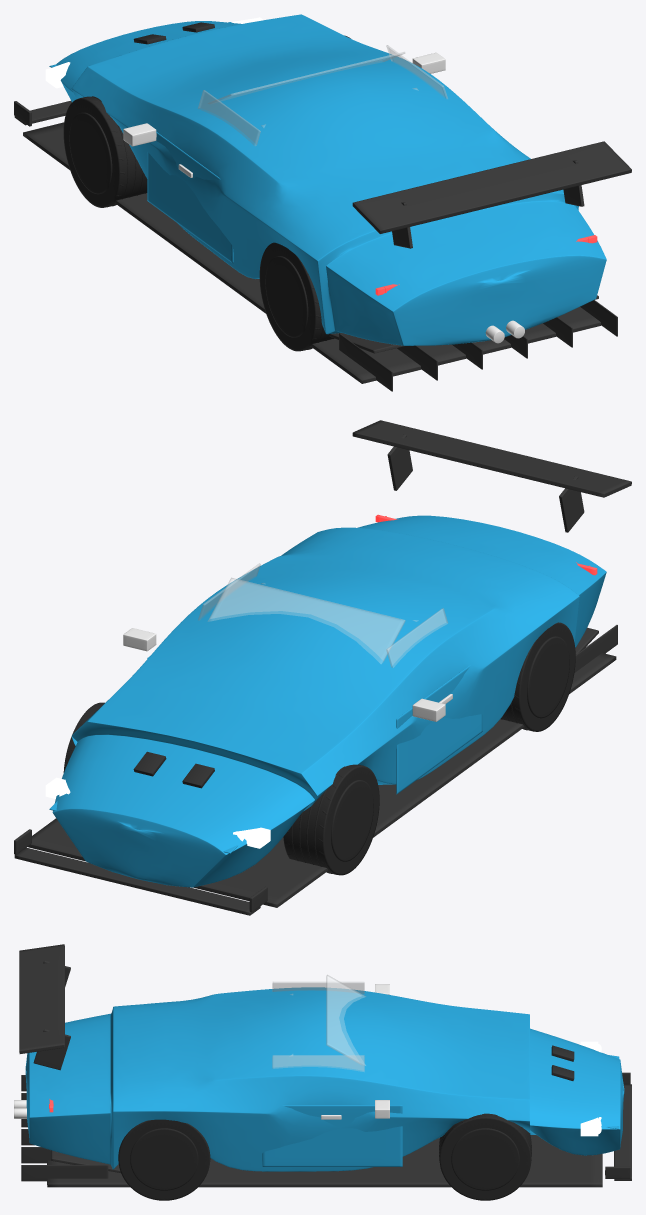
File: vehicle.opt.glb
The picture shows the model from 3 angles, top to bottom: view 1: azimuth 30°, elevation 25°; view 2: azimuth 150°, elevation 25°; view 3: azimuth 270°, elevation 25°; orthographic projection. The views are drawn at different scales.
Visible parts, largest first — view 1: BODY_MainShell, UNDERBODY_FlatFloor, AERO_992R_SwanNeckWing, WHEEL_FL_Tire, WHEEL_RL_Tire, BODY_Door_FL, GLASS_Greenhouse, JEWELRY_Hardware, AERO_FrontSplitter, LIGHTING_Headlamps; view 2: BODY_MainShell, UNDERBODY_FlatFloor, AERO_992R_SwanNeckWing, GLASS_Greenhouse, WHEEL_FL_Tire, WHEEL_RL_Tire, BODY_Door_FL, AERO_FrontSplitter, JEWELRY_Hardware, AERO_992R_HoodNostrils, LIGHTING_Headlamps; view 3: BODY_MainShell, UNDERBODY_FlatFloor, WHEEL_FR_Tire, WHEEL_RR_Tire, BODY_Door_FR, AERO_992R_SwanNeckWing, GLASS_Greenhouse, AERO_FrontSplitter, JEWELRY_Hardware, LIGHTING_Headlamps, AERO_992R_HoodNostrils.
Part boxes in pixels (x1=…): BODY_MainShell: x1=56, y1=14, x2=606, y2=345; UNDERBODY_FlatFloor: x1=23, y1=122, x2=617, y2=391; AERO_992R_SwanNeckWing: x1=352, y1=141, x2=631, y2=248; WHEEL_FL_Tire: x1=63, y1=96, x2=147, y2=207; WHEEL_RL_Tire: x1=259, y1=242, x2=334, y2=351; BODY_Door_FL: x1=147, y1=132, x2=233, y2=263; GLASS_Greenhouse: x1=198, y1=45, x2=447, y2=145; JEWELRY_Hardware: x1=123, y1=52, x2=445, y2=177; AERO_FrontSplitter: x1=14, y1=100, x2=71, y2=126; LIGHTING_Headlamps: x1=45, y1=17, x2=263, y2=88; BODY_MainShell: x1=52, y1=515, x2=606, y2=887; UNDERBODY_FlatFloor: x1=27, y1=625, x2=617, y2=907; AERO_992R_SwanNeckWing: x1=352, y1=420, x2=631, y2=532; GLASS_Greenhouse: x1=198, y1=563, x2=447, y2=667; WHEEL_FL_Tire: x1=283, y1=764, x2=379, y2=875; WHEEL_RL_Tire: x1=500, y1=622, x2=575, y2=731; BODY_Door_FL: x1=396, y1=665, x2=482, y2=794; AERO_FrontSplitter: x1=14, y1=829, x2=267, y2=915; JEWELRY_Hardware: x1=123, y1=628, x2=452, y2=721; AERO_992R_HoodNostrils: x1=133, y1=751, x2=214, y2=788; LIGHTING_Headlamps: x1=45, y1=777, x2=270, y2=848; BODY_MainShell: x1=25, y1=987, x2=624, y2=1171; UNDERBODY_FlatFloor: x1=21, y1=1075, x2=602, y2=1187; WHEEL_FR_Tire: x1=439, y1=1113, x2=531, y2=1200; WHEEL_RR_Tire: x1=118, y1=1119, x2=210, y2=1200; BODY_Door_FR: x1=262, y1=1105, x2=402, y2=1166; AERO_992R_SwanNeckWing: x1=19, y1=944, x2=70, y2=1070; GLASS_Greenhouse: x1=272, y1=975, x2=365, y2=1071; AERO_FrontSplitter: x1=605, y1=1072, x2=631, y2=1180; JEWELRY_Hardware: x1=321, y1=984, x2=389, y2=1119; LIGHTING_Headlamps: x1=580, y1=1041, x2=601, y2=1136; AERO_992R_HoodNostrils: x1=551, y1=1045, x2=574, y2=1080.
Size of what is drawn, in the model's own units: 2.32 by 1.33 by 4.83.
